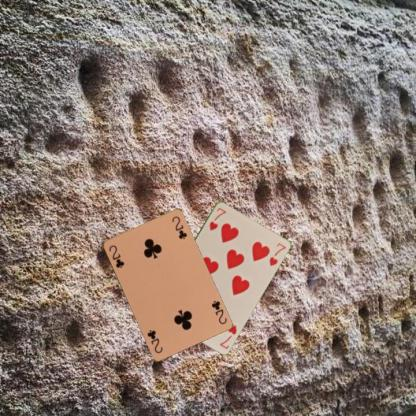2c: (107, 242, 126, 269), (209, 298, 228, 325)
7h: (206, 204, 227, 232), (217, 323, 238, 350)
